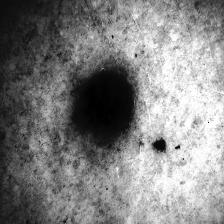Benign Marking or Mole: (75, 74, 138, 132)
